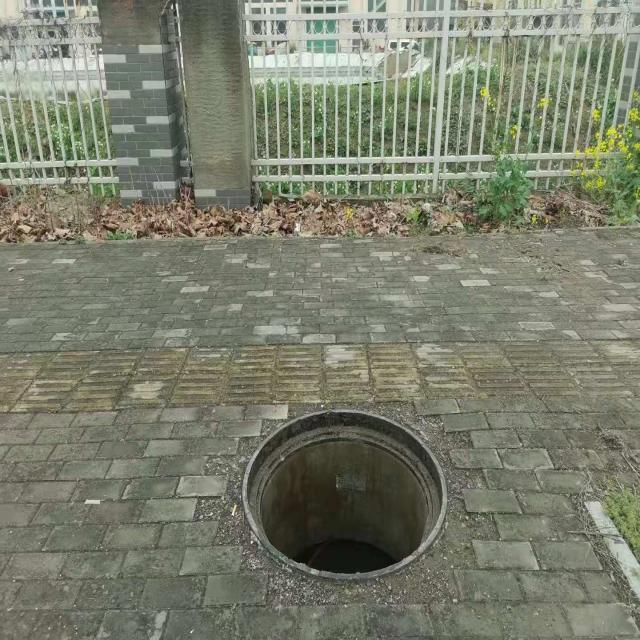Faulty: (242, 408, 448, 580)
